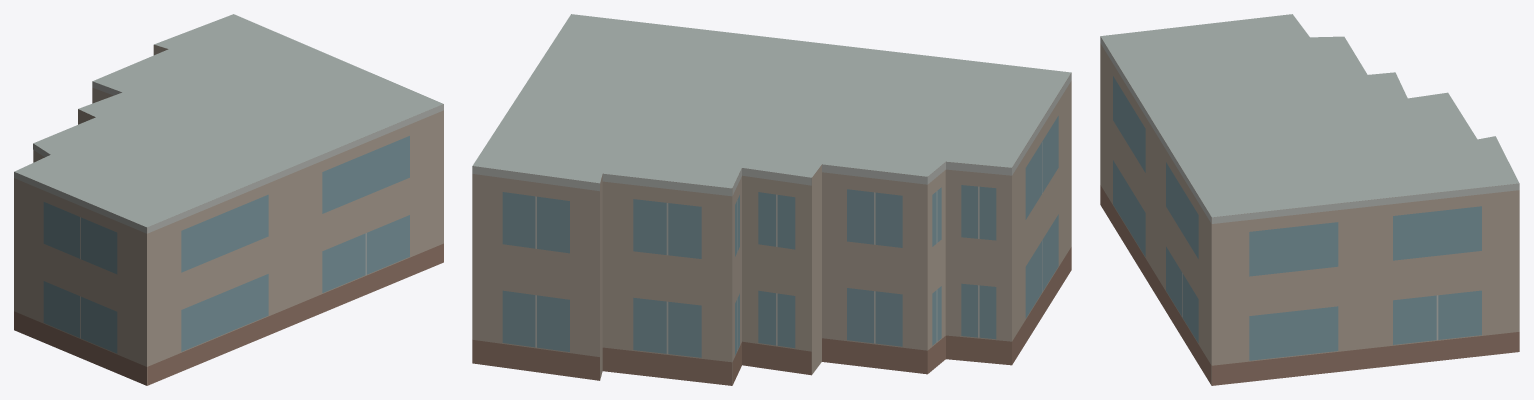
Rendered from survey-upis-32710412.glb.
The picture shows the model from 3 angles, left to right: view 1: azimuth 30°, elevation 25°; view 2: azimuth 150°, elevation 25°; view 3: azimuth 270°, elevation 25°; orthographic projection. The views are drawn at different scales.
Parts seen in each view (by area): view 1: survey-upis-32710412.tmp; view 2: survey-upis-32710412.tmp; view 3: survey-upis-32710412.tmp.
Boxes of the visible parts, bbox=[...] form: survey-upis-32710412.tmp: bbox=[14, 14, 443, 385]; survey-upis-32710412.tmp: bbox=[472, 14, 1071, 385]; survey-upis-32710412.tmp: bbox=[1100, 14, 1519, 385].
Bounding box in the file's own units: 15.79 × 6.1 × 13.76.
